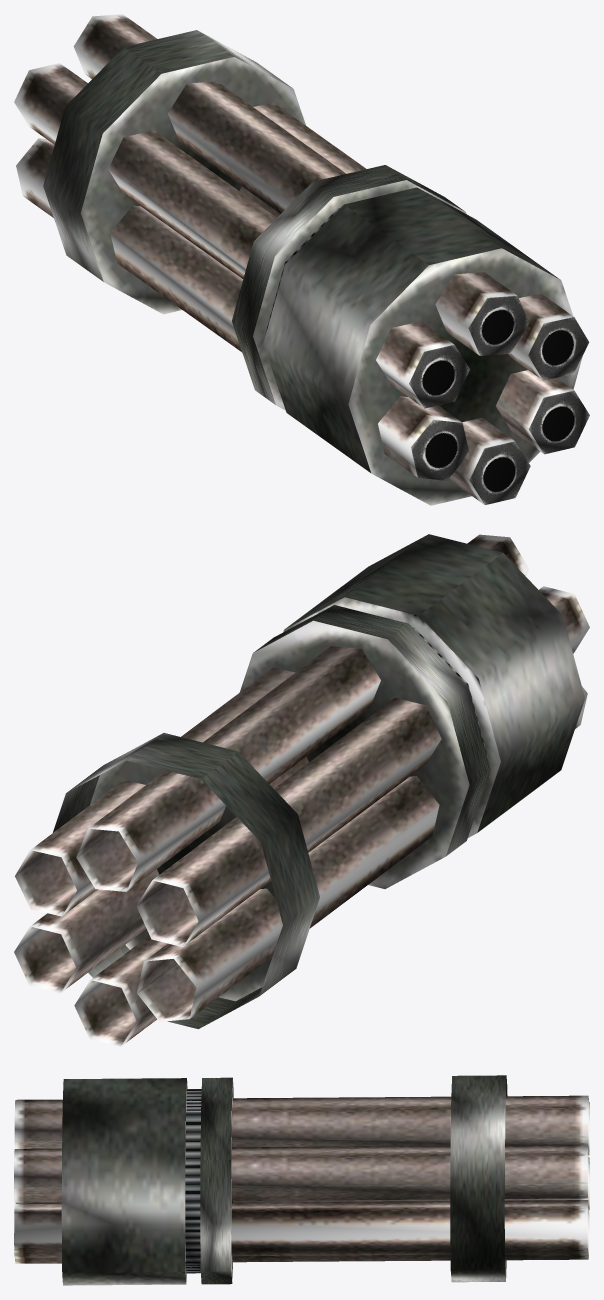
Rendered from Robot01.ChestMachineGun2.fbx.
3 renders of one model, top to bottom at view 1: azimuth 30°, elevation 25°; view 2: azimuth 150°, elevation 25°; view 3: azimuth 270°, elevation 25°, orthographic. The views are drawn at different scales.
Parts seen in each view (by area): view 1: Robot01.ChestMachineGun2; view 2: Robot01.ChestMachineGun2; view 3: Robot01.ChestMachineGun2.
Part boxes in pixels (left/top/right/bottom): Robot01.ChestMachineGun2: left=14, top=14, right=589, bottom=505; Robot01.ChestMachineGun2: left=14, top=534, right=589, bottom=1046; Robot01.ChestMachineGun2: left=14, top=1075, right=589, bottom=1285.
Size of the model in its own units: 24.14 by 23.26 by 67.24.
